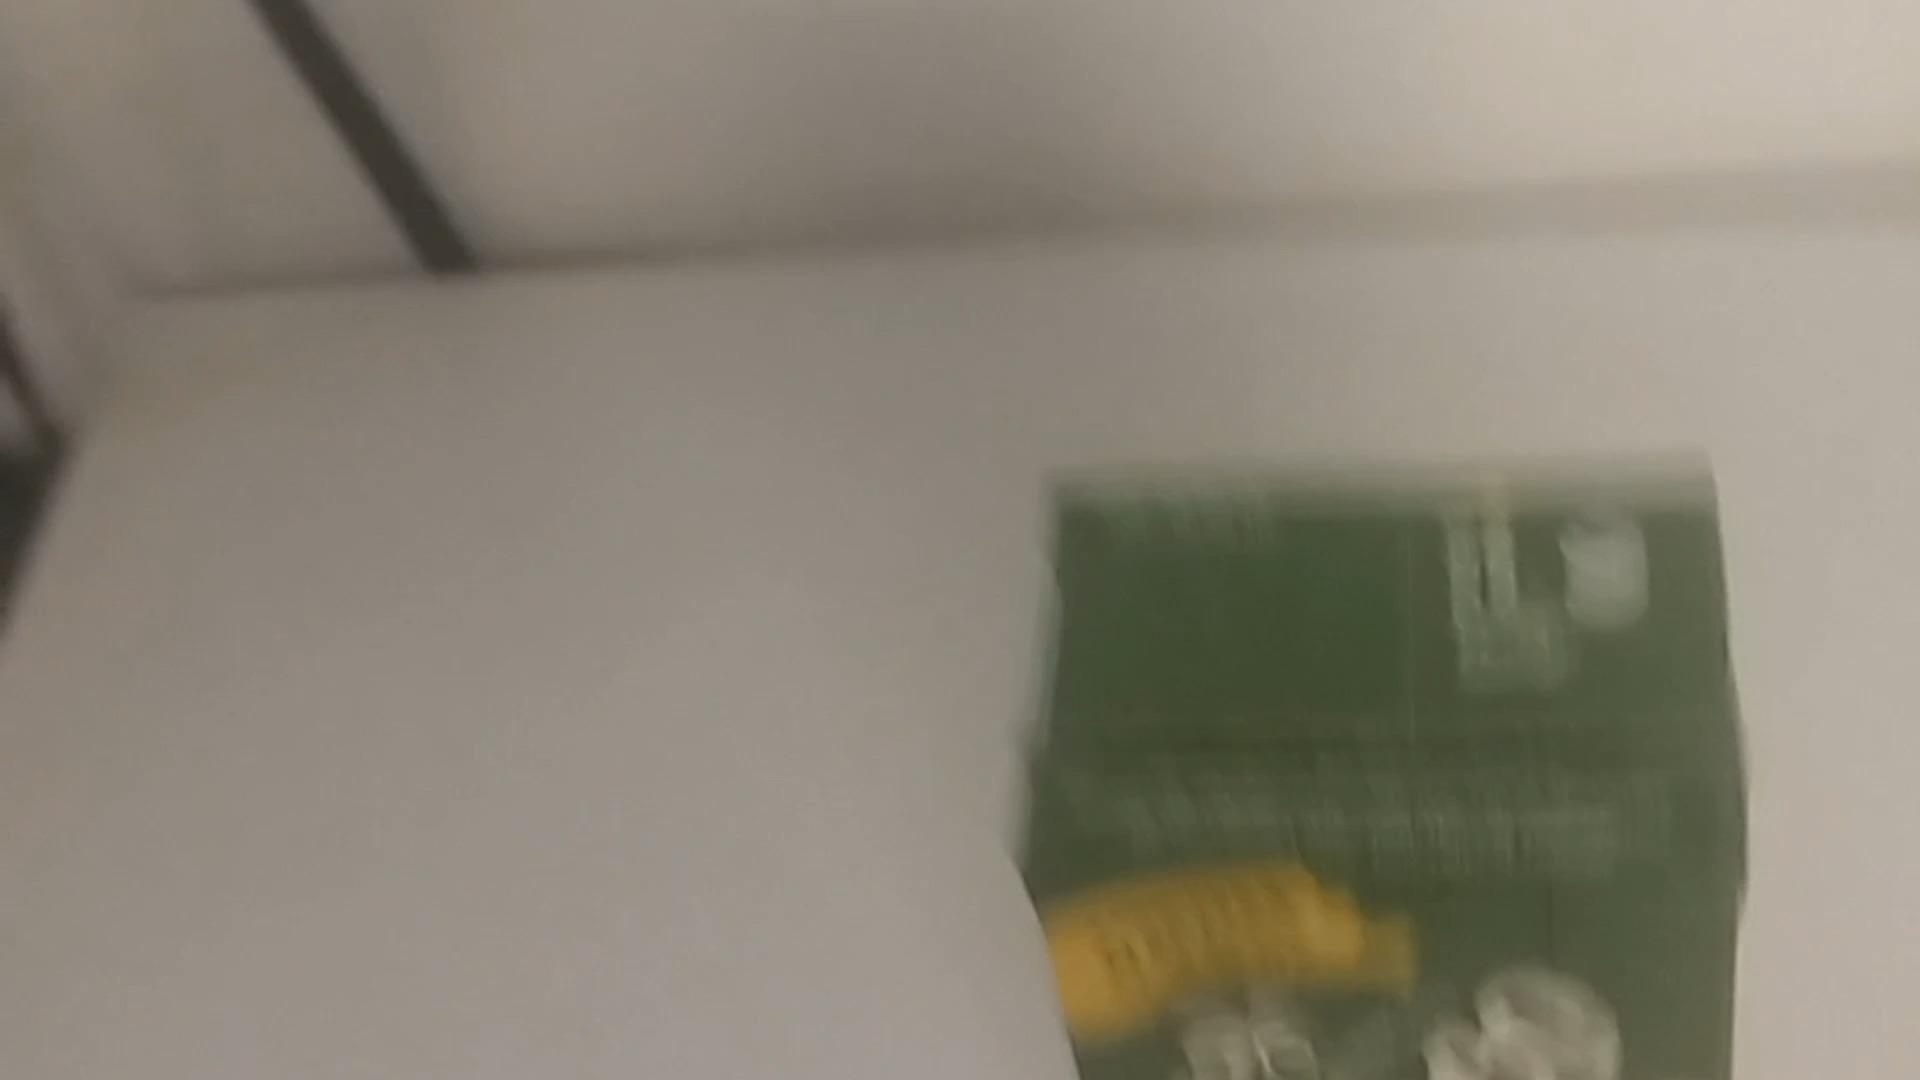coco: (1018, 465, 1770, 1080)
